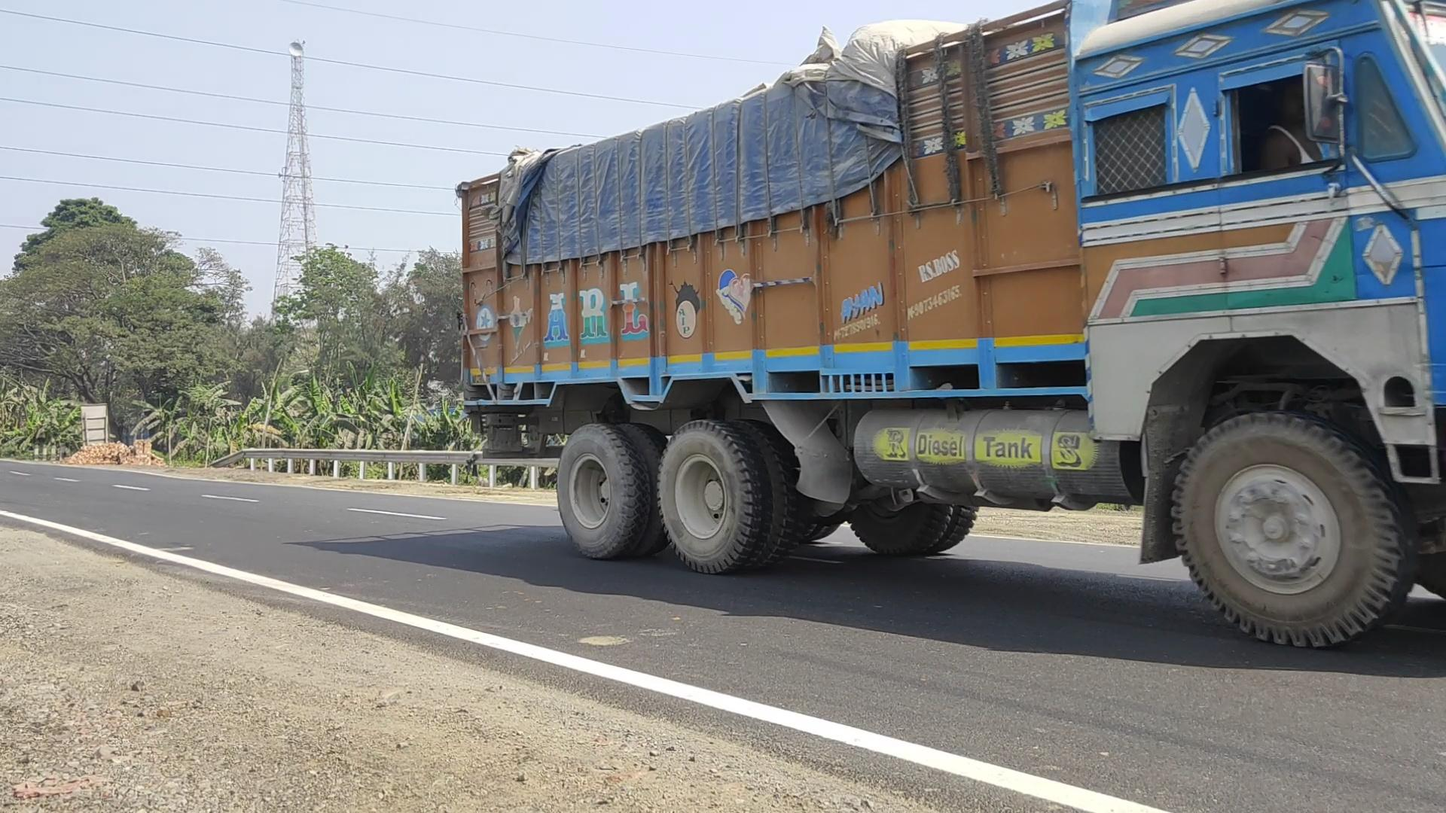truck: (454, 1, 1446, 651)
